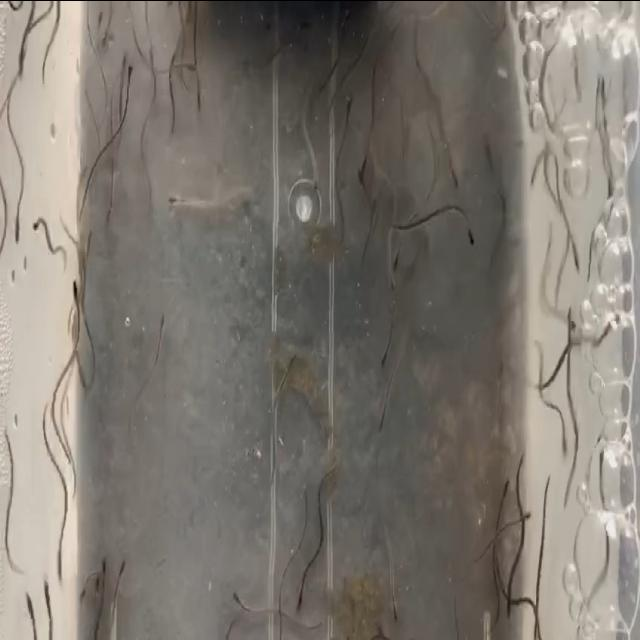active_glass_eel: (34, 572, 54, 634), (602, 300, 628, 342), (384, 249, 404, 301), (22, 587, 42, 635), (352, 140, 372, 188), (459, 210, 481, 251), (190, 62, 208, 112), (444, 140, 462, 188), (374, 394, 394, 436), (122, 49, 138, 101), (74, 572, 92, 618), (52, 544, 68, 594), (86, 557, 100, 614), (160, 186, 184, 219), (230, 582, 252, 618), (98, 542, 112, 598), (10, 188, 23, 247), (474, 128, 496, 162), (113, 549, 127, 602), (15, 26, 27, 86), (89, 3, 105, 47), (592, 428, 608, 472), (69, 274, 82, 324), (388, 582, 402, 628), (560, 302, 580, 334), (114, 36, 128, 80), (378, 327, 392, 371), (556, 416, 570, 456), (568, 240, 582, 280), (156, 302, 168, 348), (344, 87, 359, 123), (85, 221, 97, 265), (504, 582, 516, 626), (498, 472, 514, 504), (180, 58, 199, 84), (29, 208, 45, 238), (282, 352, 300, 378), (106, 183, 116, 227), (562, 298, 573, 338), (515, 500, 535, 522), (294, 584, 306, 620), (296, 33, 312, 60), (394, 234, 404, 270)
